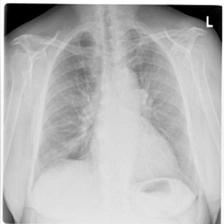tuberculosis: (29, 23, 206, 214)
